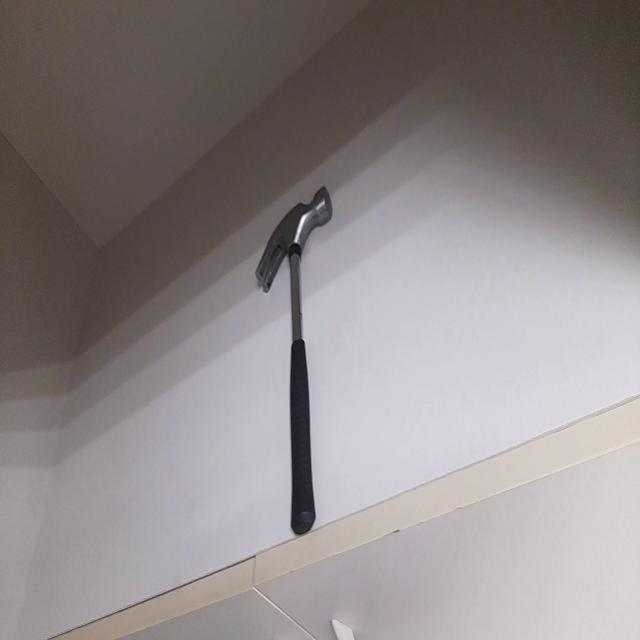hammer: (255, 186, 332, 535)
